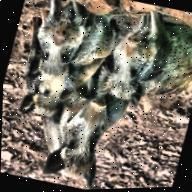boar: (93, 0, 192, 123), (34, 92, 138, 190), (17, 0, 121, 88), (12, 52, 94, 131)
